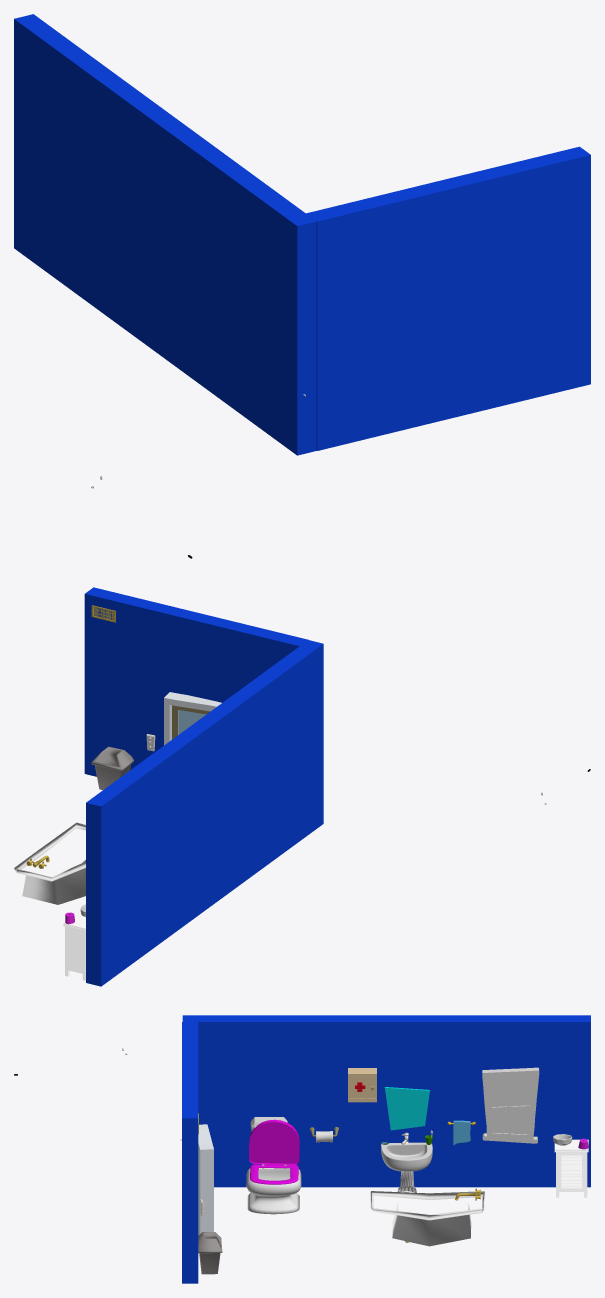
File: Salle de bain Kouassi Emmanuel.glb
3 renders of one model, top to bottom at view 1: azimuth 30°, elevation 25°; view 2: azimuth 150°, elevation 25°; view 3: azimuth 270°, elevation 25°, orthographic. The views are drawn at different scales.
Visible parts, largest first — view 1: Cube.002, Cube.019; view 2: Cube.002, Cube.019, Cube.013, Cube.014, Plane.001, Cube.015; view 3: Cube.002, Cube.019, Fenetre, Cube.013, BézierCircle, Rectangle.003, Sphere, Cube.015, Cube.014, Cylinder.020, Cube, Plane.001 (+2 smaller).
Boxes of the visible parts, x1,y1,x2,y2 form: Cube.002: (14, 14, 316, 455); Cube.019: (306, 146, 590, 450); Cube.002: (86, 640, 323, 986); Cube.019: (84, 587, 308, 776); Cube.013: (14, 822, 85, 904); Cube.014: (63, 911, 85, 980); Plane.001: (91, 746, 133, 789); Cube.015: (164, 692, 221, 745); Cube.002: (182, 1015, 590, 1187); Cube.019: (182, 1022, 198, 1283); Fenetre: (482, 1067, 539, 1143); Cube.013: (370, 1191, 484, 1246); BézierCircle: (246, 1168, 301, 1214); Rectangle.003: (249, 1119, 299, 1164); Sphere: (384, 1087, 429, 1130); Cube.015: (198, 1124, 213, 1235); Cube.014: (554, 1139, 588, 1197); Cylinder.020: (381, 1132, 432, 1171); Cube: (348, 1068, 376, 1102); Plane.001: (198, 1232, 222, 1274).
Size of what is drawn, in the model's own units: 15.87 by 6.54 by 20.45.
